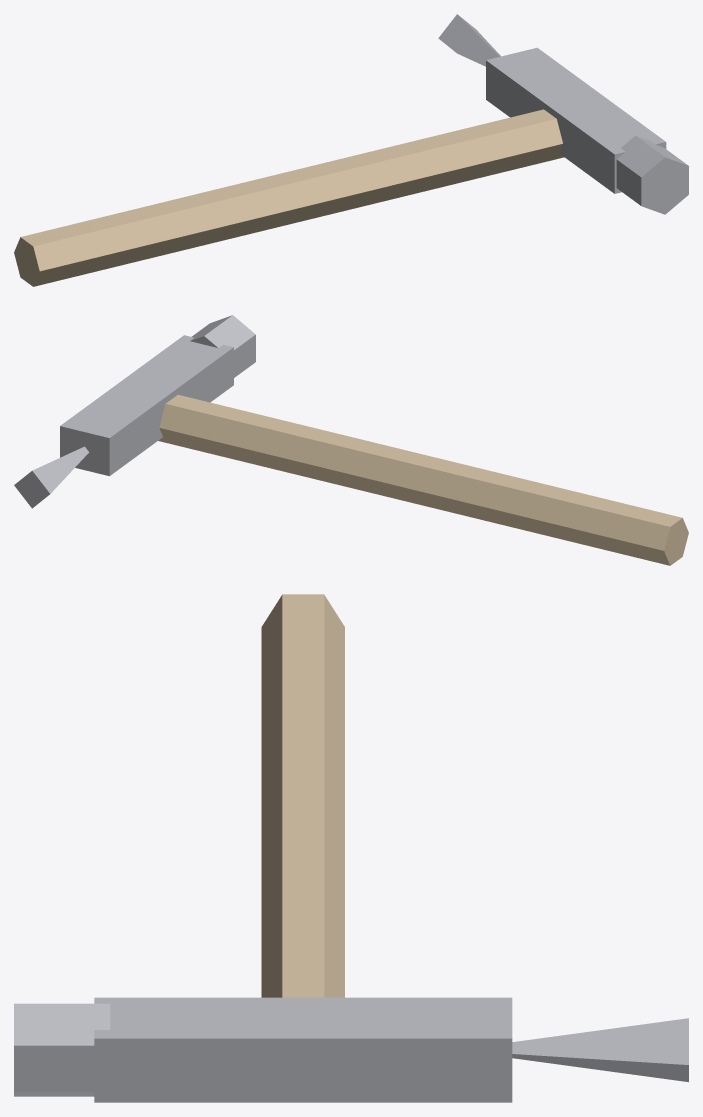
The model's file is prop-tile-hammer-tl1.fbx.
The picture shows the model from 3 angles, top to bottom: view 1: azimuth 30°, elevation 25°; view 2: azimuth 150°, elevation 25°; view 3: azimuth 270°, elevation 25°; orthographic projection. The views are drawn at different scales.
Visible parts, largest first — view 1: prop-tile-hammer-tl1; view 2: prop-tile-hammer-tl1; view 3: prop-tile-hammer-tl1.
Part boxes in pixels (left/top/right/bottom): prop-tile-hammer-tl1: left=14, top=14, right=688, bottom=286; prop-tile-hammer-tl1: left=14, top=315, right=688, bottom=565; prop-tile-hammer-tl1: left=14, top=594, right=688, bottom=1102.
Bounding box in the file's own units: 33.5 × 3.2 × 21.
